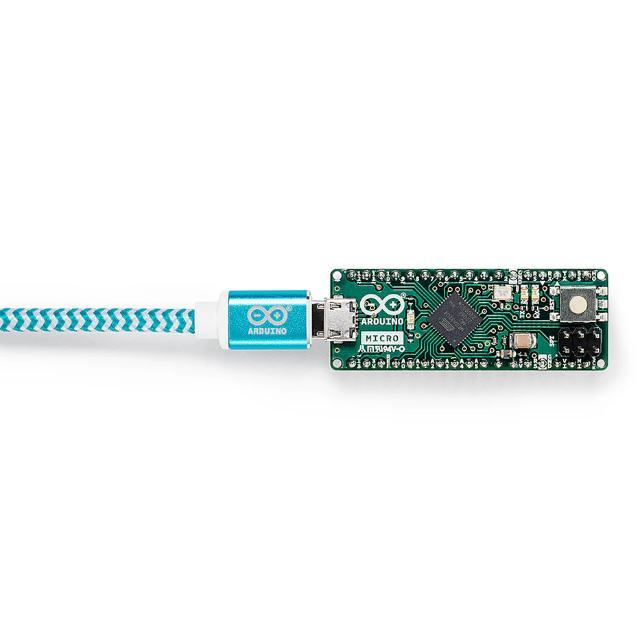Arduino-Micro: (314, 270, 607, 371)
